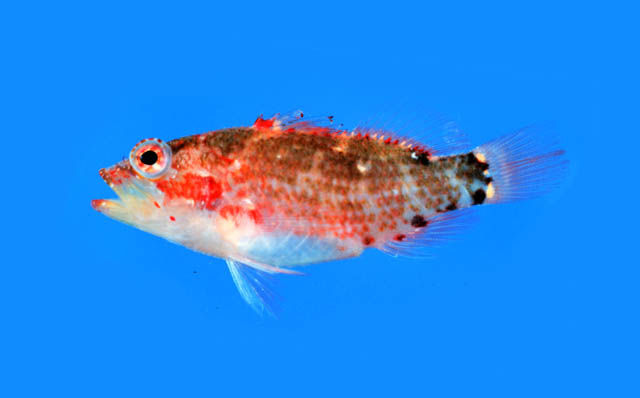fish: (92, 105, 575, 321)
